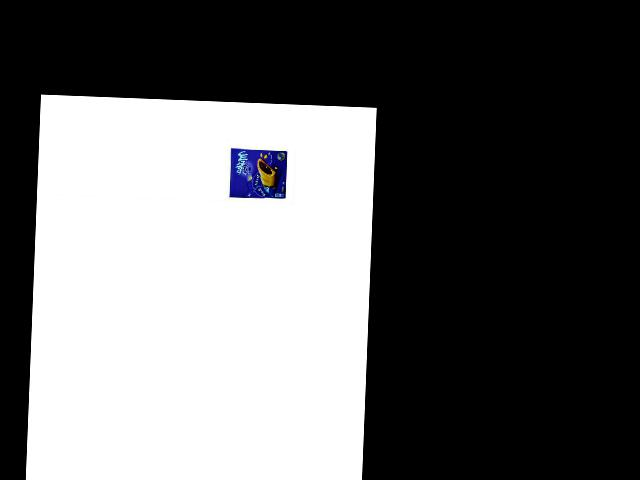chocolate: (225, 145, 291, 201)
